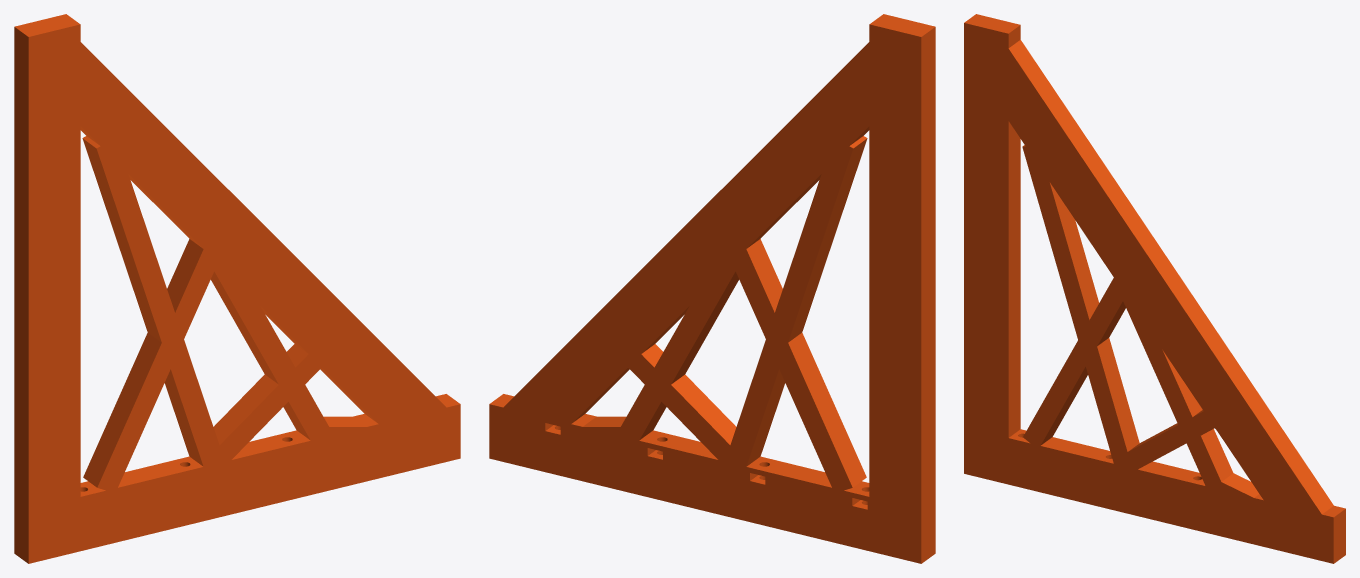
The model's file is .right_front_bracket.step.glb.
3 renders of one model, left to right at view 1: azimuth 30°, elevation 25°; view 2: azimuth 150°, elevation 25°; view 3: azimuth 330°, elevation 25°, orthographic. The views are drawn at different scales.
Visible parts, largest first — view 1: o1; view 2: o1; view 3: o1.
Part boxes in pixels (left/top/right/bottom): o1: left=14, top=14, right=460, bottom=563; o1: left=489, top=14, right=935, bottom=563; o1: left=964, top=14, right=1345, bottom=563.
Size of the model in its own units: 0.2111 by 0.246 by 0.012.
